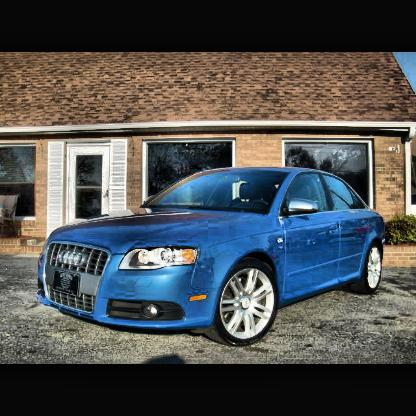Audi S4 Sedan 2007: (40, 168, 383, 347)
